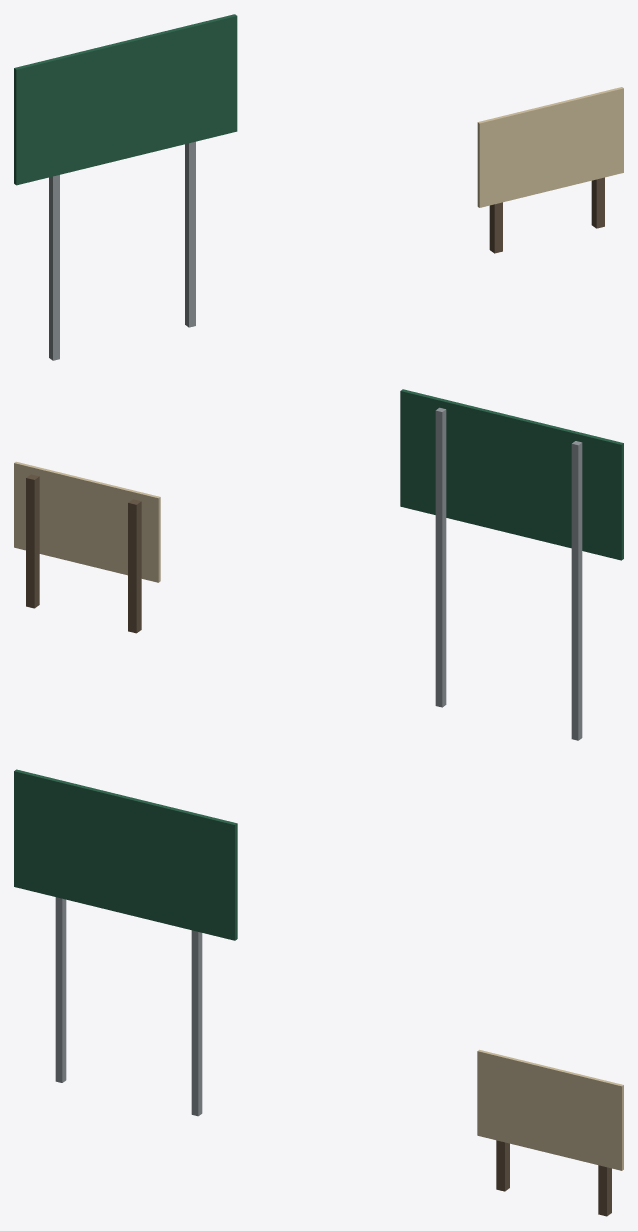
The model's file is road-signs.glb.
3 renders of one model, top to bottom at view 1: azimuth 30°, elevation 25°; view 2: azimuth 150°, elevation 25°; view 3: azimuth 330°, elevation 25°, orthographic.
Visible parts, largest first — view 1: sign_a_face, sign_b_face, sign_a_posts, sign_b_stakes; view 2: sign_a_face, sign_b_face, sign_a_posts, sign_b_stakes; view 3: sign_a_face, sign_b_face, sign_a_posts, sign_b_stakes.
Boxes of the visible parts, bbox=[...] form: sign_a_face: bbox=[14, 14, 237, 185]; sign_b_face: bbox=[477, 87, 623, 207]; sign_a_posts: bbox=[49, 141, 195, 360]; sign_b_stakes: bbox=[489, 177, 604, 253]; sign_a_face: bbox=[400, 389, 623, 560]; sign_b_face: bbox=[14, 461, 160, 582]; sign_a_posts: bbox=[435, 407, 582, 740]; sign_b_stakes: bbox=[26, 474, 141, 633]; sign_a_face: bbox=[14, 769, 237, 940]; sign_b_face: bbox=[477, 1049, 623, 1170]; sign_a_posts: bbox=[55, 897, 202, 1116]; sign_b_stakes: bbox=[496, 1140, 611, 1216].
Size of the model in its own units: 7.15 by 3.4 by 0.14.
